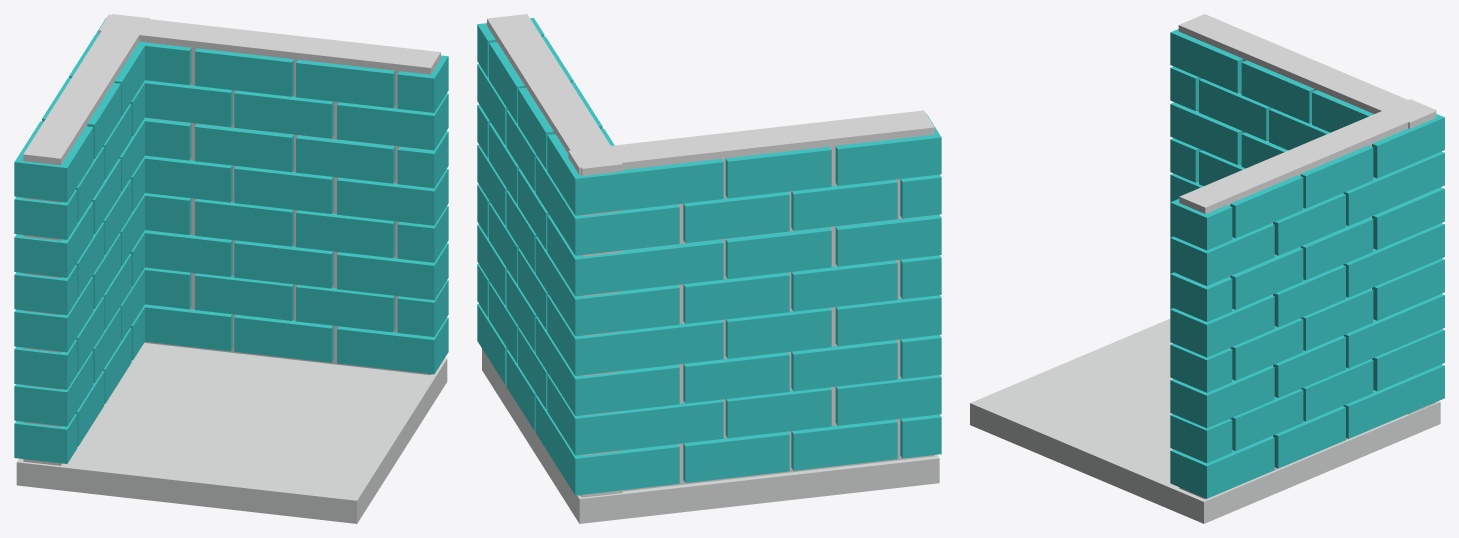
File: duvar 2.1.2.fbx
3 views of the same model, side by side, from view 1: azimuth 30°, elevation 25°; view 2: azimuth 150°, elevation 25°; view 3: azimuth 270°, elevation 25° (orthographic). The views are drawn at different scales.
Visible parts, largest first — view 1: zemin3; view 2: zemin3; view 3: zemin3.
Part boxes in pixels (bbox=[...]): zemin3: bbox=[14, 14, 448, 523]; zemin3: bbox=[477, 14, 941, 523]; zemin3: bbox=[970, 14, 1444, 523].
Bounding box in the file's own units: 1745 × 1269 × 1741.
